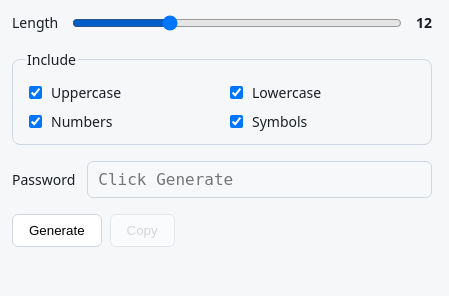
Test: never produces an out-of-range index for random values close to 1
This screenshot has width=449, height=296.
Set the slider labelled "Length" to "6" at (103, 22), box [72, 14, 402, 30]
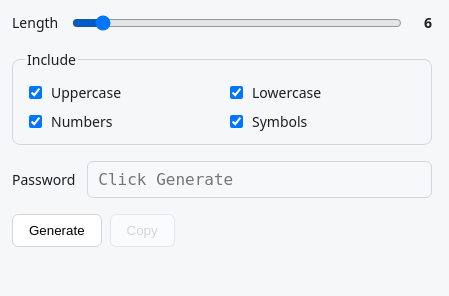
Click the checkbox labelled "Uppercase" at (36, 92), box [29, 86, 42, 99]
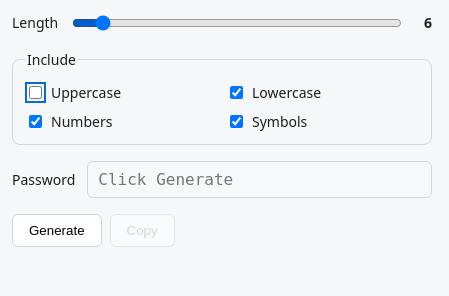
Click the checkbox labelled "Lowercase" at (236, 92), box [230, 86, 243, 99]
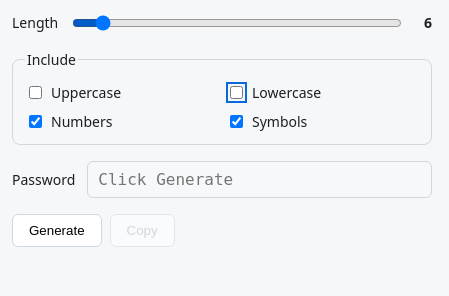
Click the checkbox labelled "Symbols" at (236, 122), box [230, 115, 243, 128]
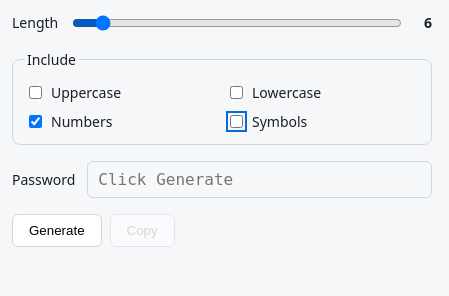
Click the button "Generate" at (57, 230), box [12, 214, 102, 247]
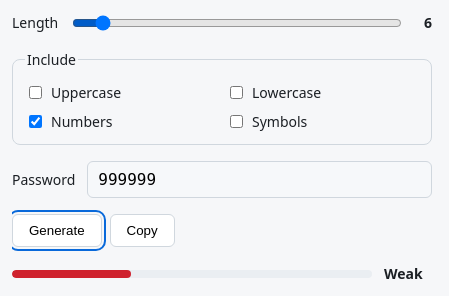
Result: the field labelled "Password" holds "999999" at [87, 161, 432, 198]
